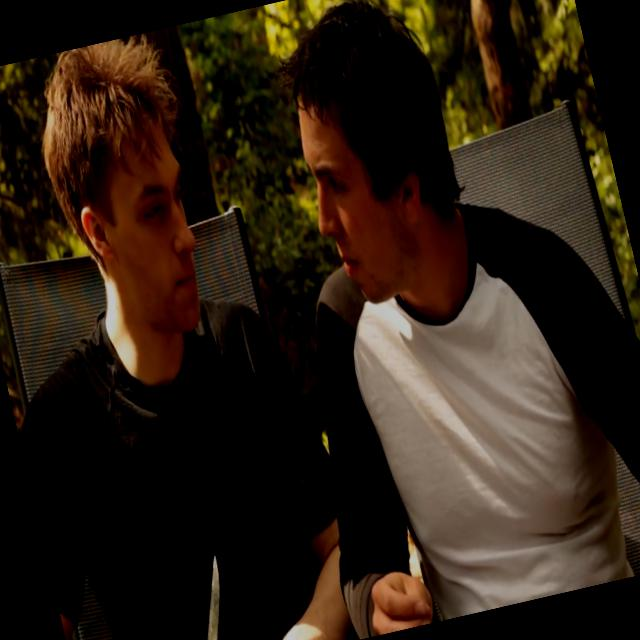knife: (150, 534, 252, 639)
